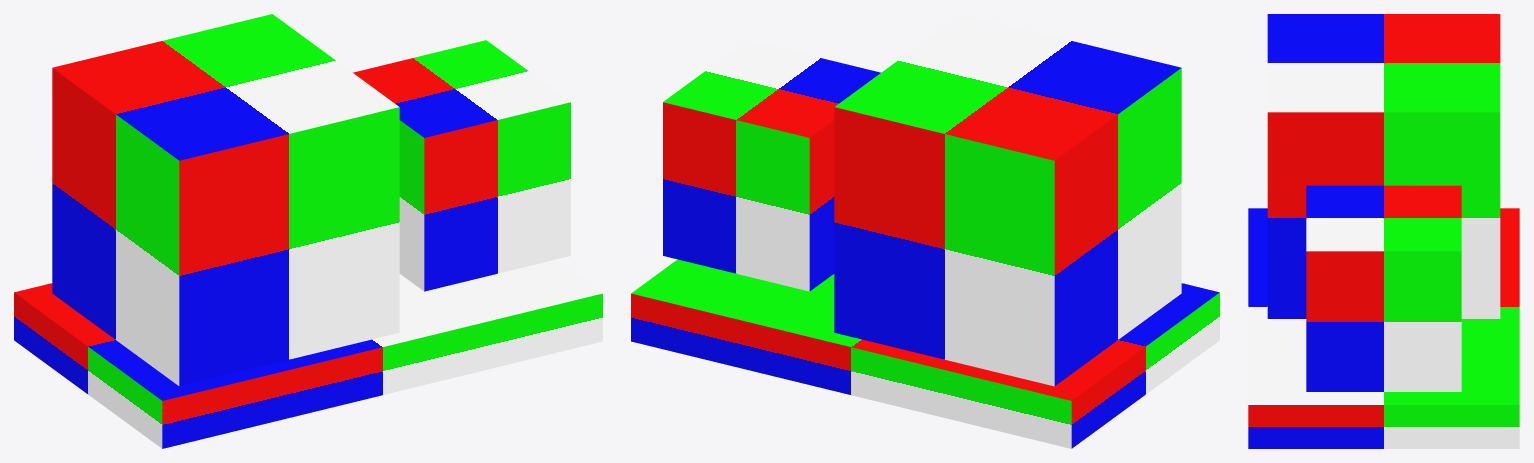
Rendered from assembly.glb.
3 views of the same model, side by side, from view 1: azimuth 30°, elevation 25°; view 2: azimuth 150°, elevation 25°; view 3: azimuth 270°, elevation 25° (orthographic). The views are drawn at different scales.
Parts seen in each view (by area): view 1: Housing, Base, Motor; view 2: Housing, Base, Motor; view 3: Housing, Motor, Base.
Part boxes in pixels (bbox=[...]): Housing: bbox=[52, 14, 399, 386]; Base: bbox=[14, 259, 602, 448]; Motor: bbox=[353, 40, 570, 291]; Housing: bbox=[834, 14, 1181, 386]; Base: bbox=[631, 259, 1219, 448]; Motor: bbox=[663, 40, 880, 291]; Housing: bbox=[1267, 14, 1500, 318]; Motor: bbox=[1306, 185, 1461, 391]; Base: bbox=[1248, 208, 1519, 448].
Bounding box in the file's own units: 2.4 × 1.42 × 1.4.
Materials: 1 (1 with a texture image).
